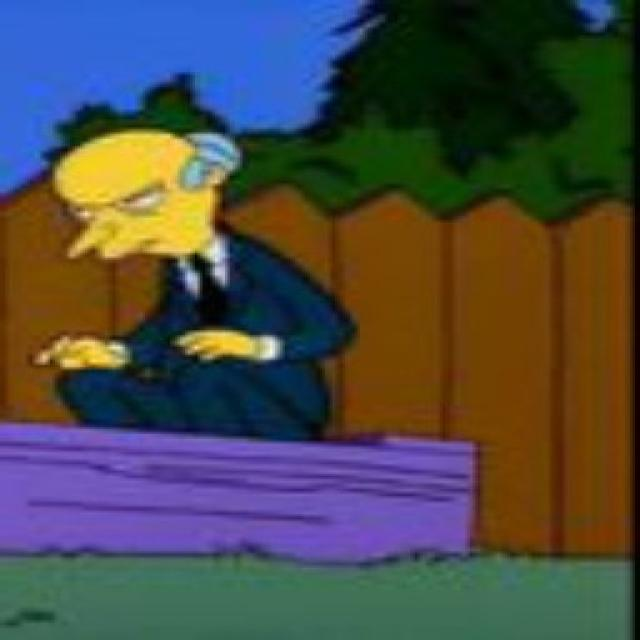Charles Montgomery Burns: (46, 127, 254, 262)
